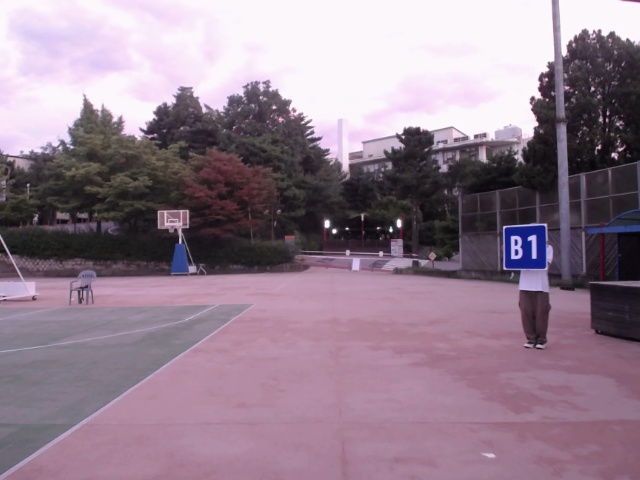delivery_b1: (503, 225, 548, 271)
